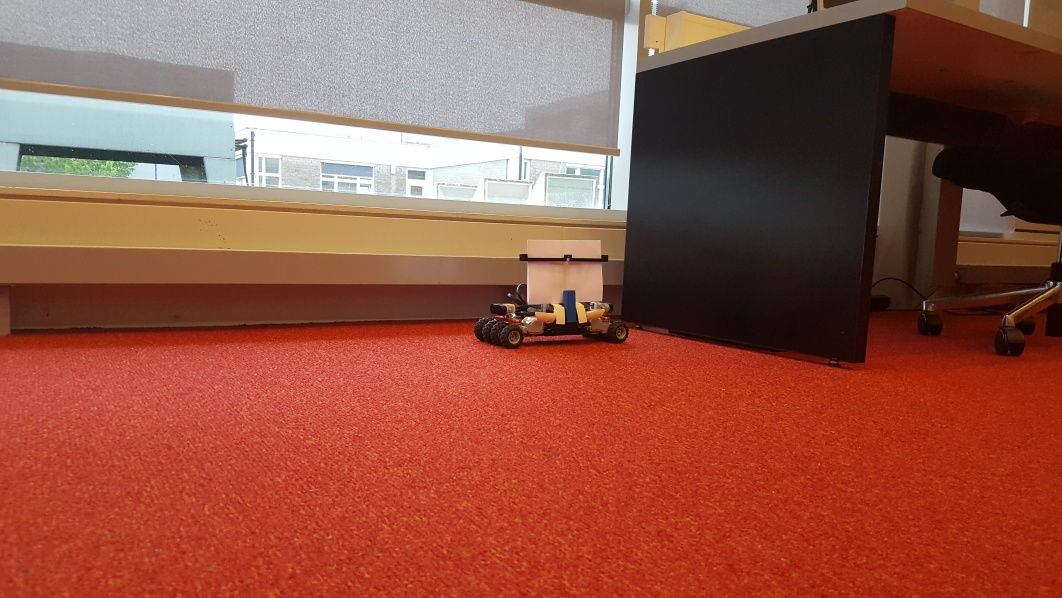car: (472, 235, 633, 346)
